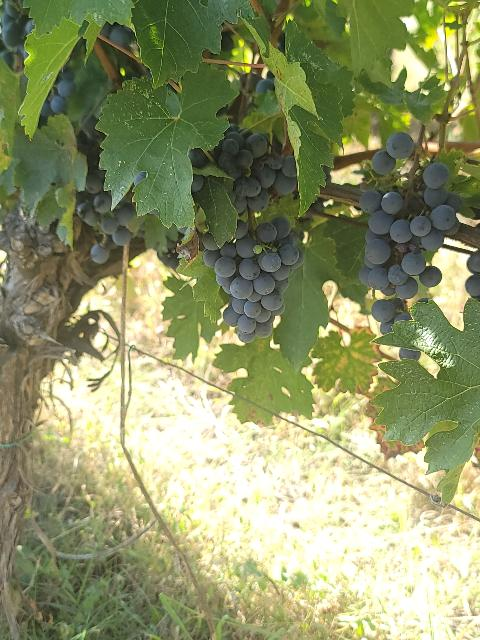grapes: (359, 162, 460, 334), (202, 216, 304, 344)
